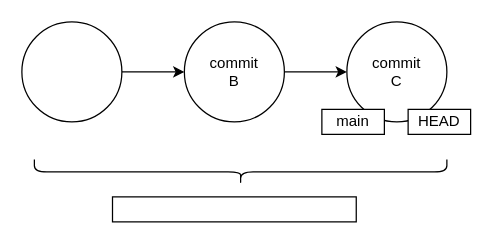
This 493x244 diagram has some shape labels left out. Each missing label, with the centre of its shape:
commit A: pixel 71 71
全体に対してmainブランチ: pixel 233 209
